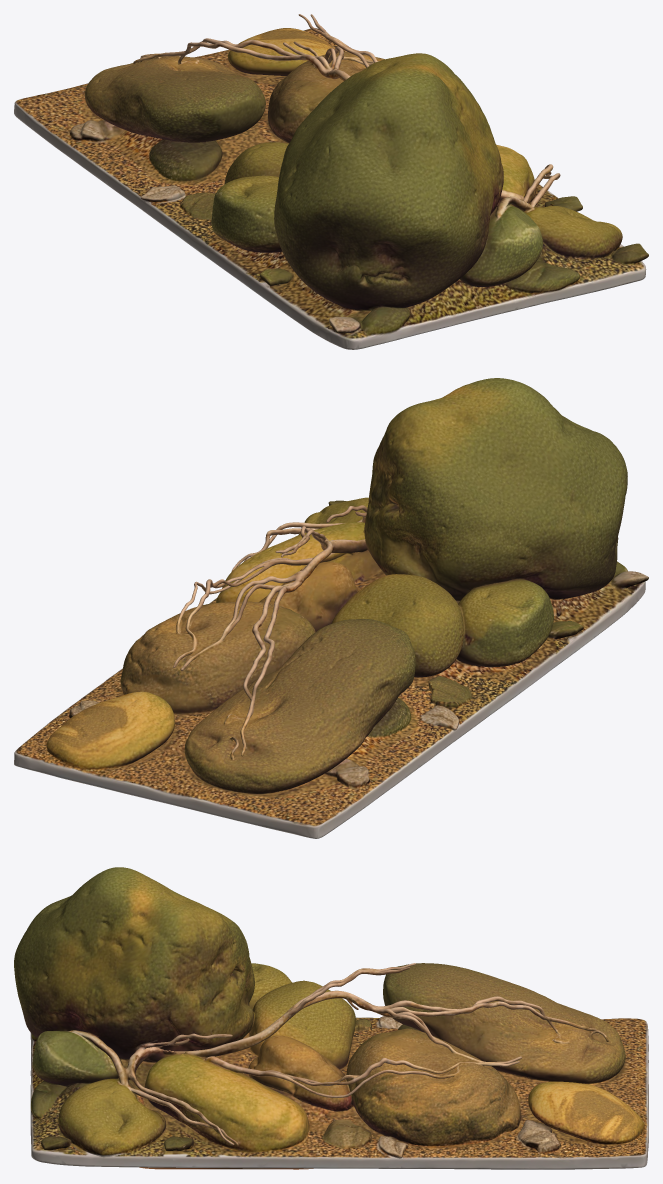
The model's file is Cuoiver2-v5.glb.
3 renders of one model, top to bottom at view 1: azimuth 30°, elevation 25°; view 2: azimuth 150°, elevation 25°; view 3: azimuth 270°, elevation 25°, orthographic. The views are drawn at different scales.
Visible parts, largest first — view 1: tripo_node_d4b14052-9ad0-4603-ab8c-a38d454d0bb1; view 2: tripo_node_d4b14052-9ad0-4603-ab8c-a38d454d0bb1; view 3: tripo_node_d4b14052-9ad0-4603-ab8c-a38d454d0bb1.
Boxes of the visible parts, x1=… form: tripo_node_d4b14052-9ad0-4603-ab8c-a38d454d0bb1: x1=14, y1=14, x2=648, y2=349; tripo_node_d4b14052-9ad0-4603-ab8c-a38d454d0bb1: x1=14, y1=378, x2=648, y2=838; tripo_node_d4b14052-9ad0-4603-ab8c-a38d454d0bb1: x1=14, y1=867, x2=648, y2=1169.
Size of the model in its own units: 0.5375 by 0.3935 by 1.
1 material, 1 textured.
